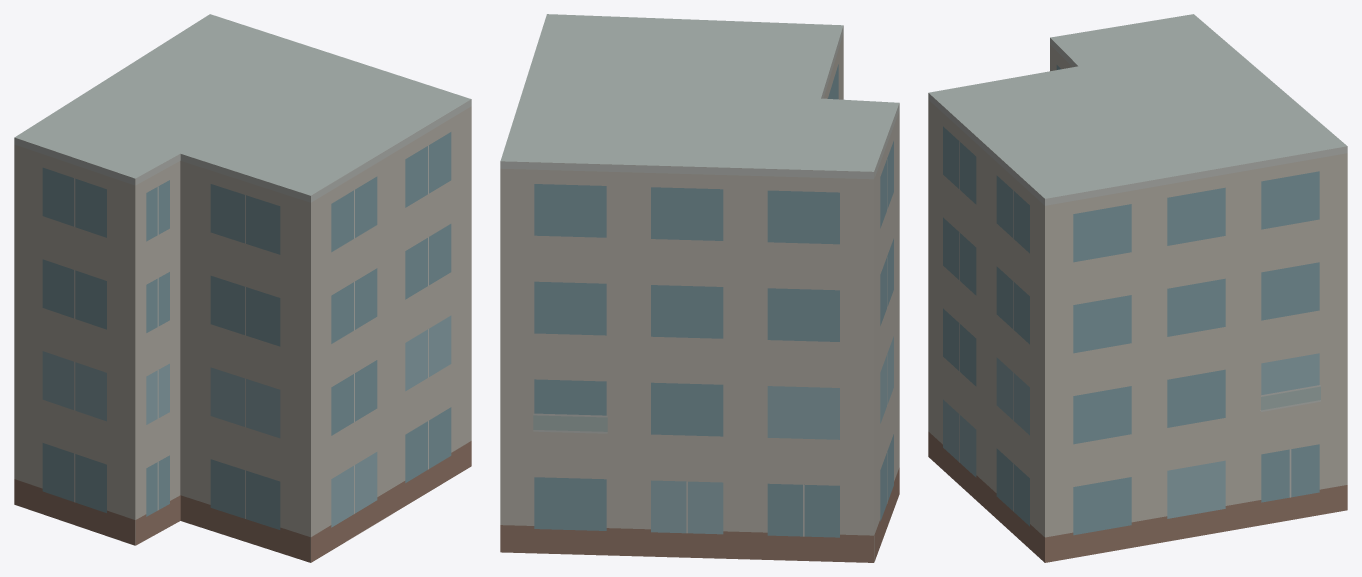
Rendered from survey-upis-32809061.glb.
3 renders of one model, left to right at view 1: azimuth 30°, elevation 25°; view 2: azimuth 150°, elevation 25°; view 3: azimuth 270°, elevation 25°, orthographic. The views are drawn at different scales.
Visible parts, largest first — view 1: survey-upis-32809061.tmp; view 2: survey-upis-32809061.tmp; view 3: survey-upis-32809061.tmp.
Boxes of the visible parts, box(x1,y1,x2,y2) form: survey-upis-32809061.tmp: box(14, 14, 471, 562); survey-upis-32809061.tmp: box(500, 14, 899, 562); survey-upis-32809061.tmp: box(928, 14, 1347, 562).
Bounding box in the file's own units: 13.94 × 12.79 × 13.36.
